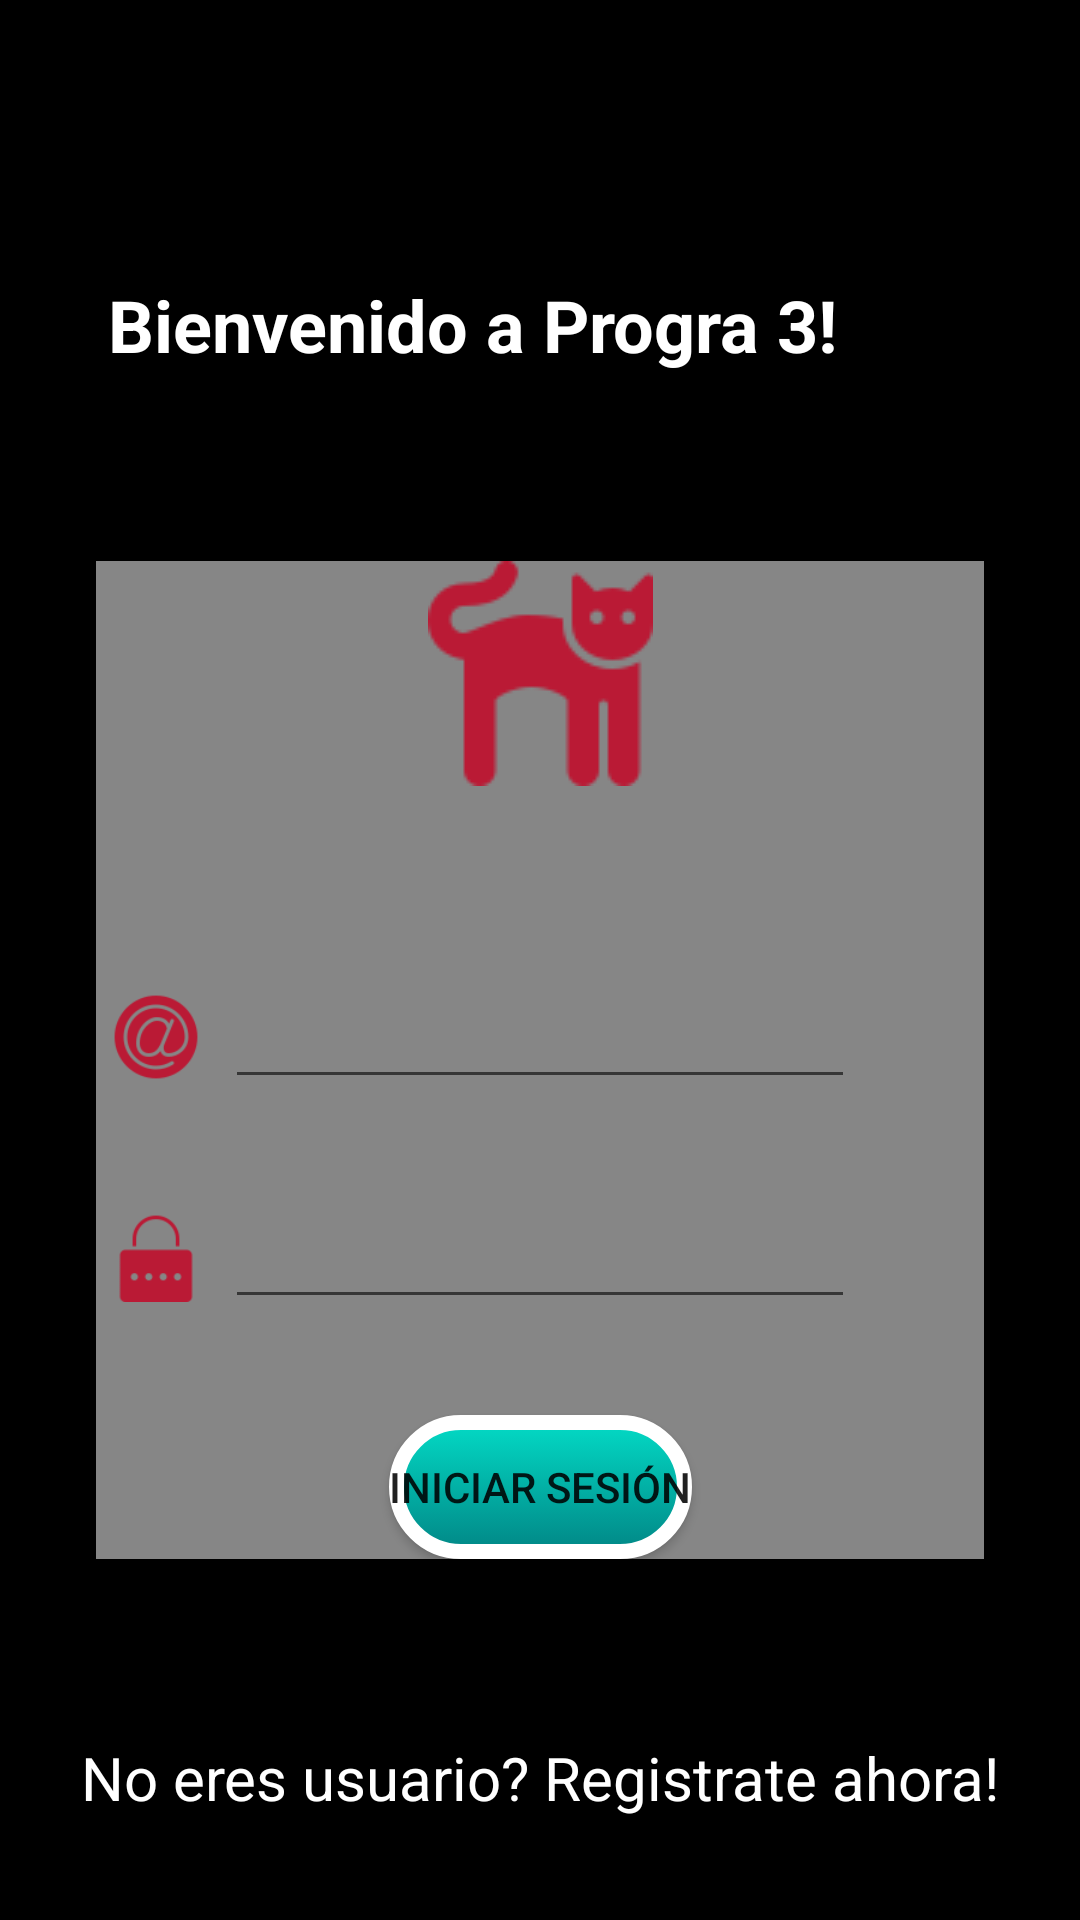

Where to tap for icons on this 1080 × 1920 app screen, as [x,y]:
cat: [540,673]
email: [156,1037]
password: [156,1258]
